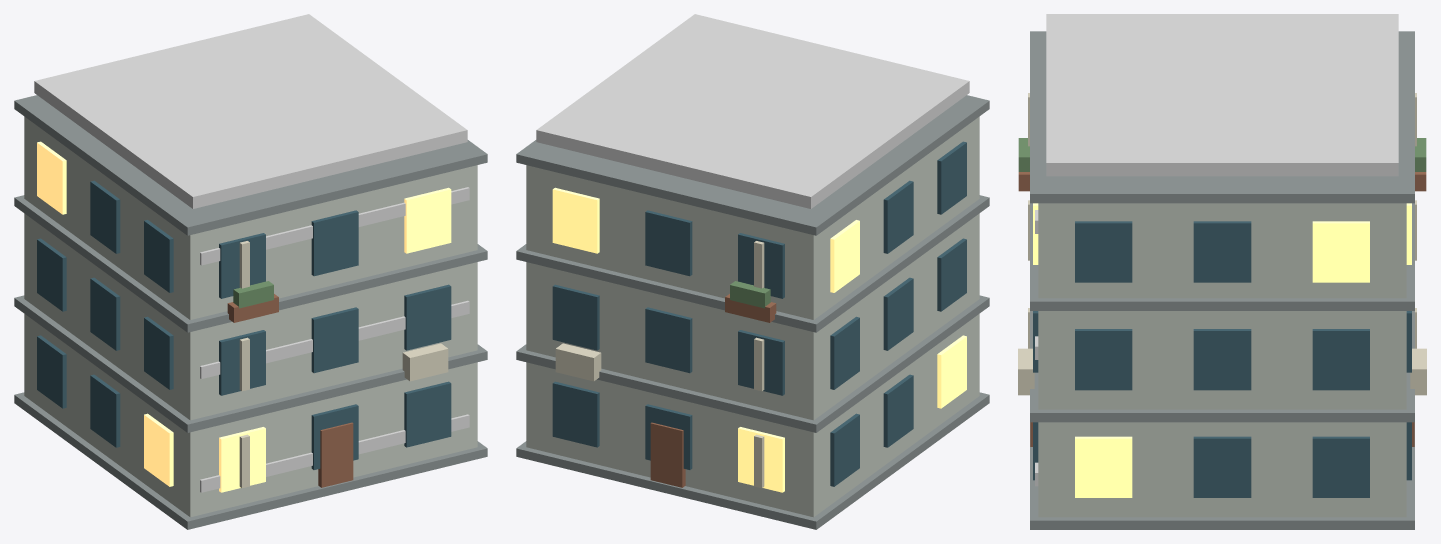
File: khrushchovka-v2.glb
3 renders of one model, left to right at view 1: azimuth 30°, elevation 25°; view 2: azimuth 150°, elevation 25°; view 3: azimuth 270°, elevation 25°, orthographic. The views are drawn at different scales.
Parts seen in each view (by area): view 1: Module_0, V2_RoofParapet, V2_PanelSeam_0.00, V2_PanelSeam_-0.34, V2_PanelSeam_0.34; view 2: Module_0, V2_RoofParapet; view 3: Module_0, V2_RoofParapet.
Part boxes in pixels (x1=…): Module_0: x1=14, y1=95, x2=487, y2=529; V2_RoofParapet: x1=34, y1=14, x2=467, y2=208; V2_PanelSeam_0.00: x1=200, y1=300, x2=469, y2=378; V2_PanelSeam_-0.34: x1=200, y1=414, x2=469, y2=492; V2_PanelSeam_0.34: x1=200, y1=187, x2=469, y2=265; Module_0: x1=516, y1=95, x2=989, y2=529; V2_RoofParapet: x1=536, y1=14, x2=969, y2=208; Module_0: x1=1018, y1=31, x2=1426, y2=529; V2_RoofParapet: x1=1046, y1=14, x2=1398, y2=176.
Size of the model in its own units: 0.94 by 0.9705 by 0.998.
